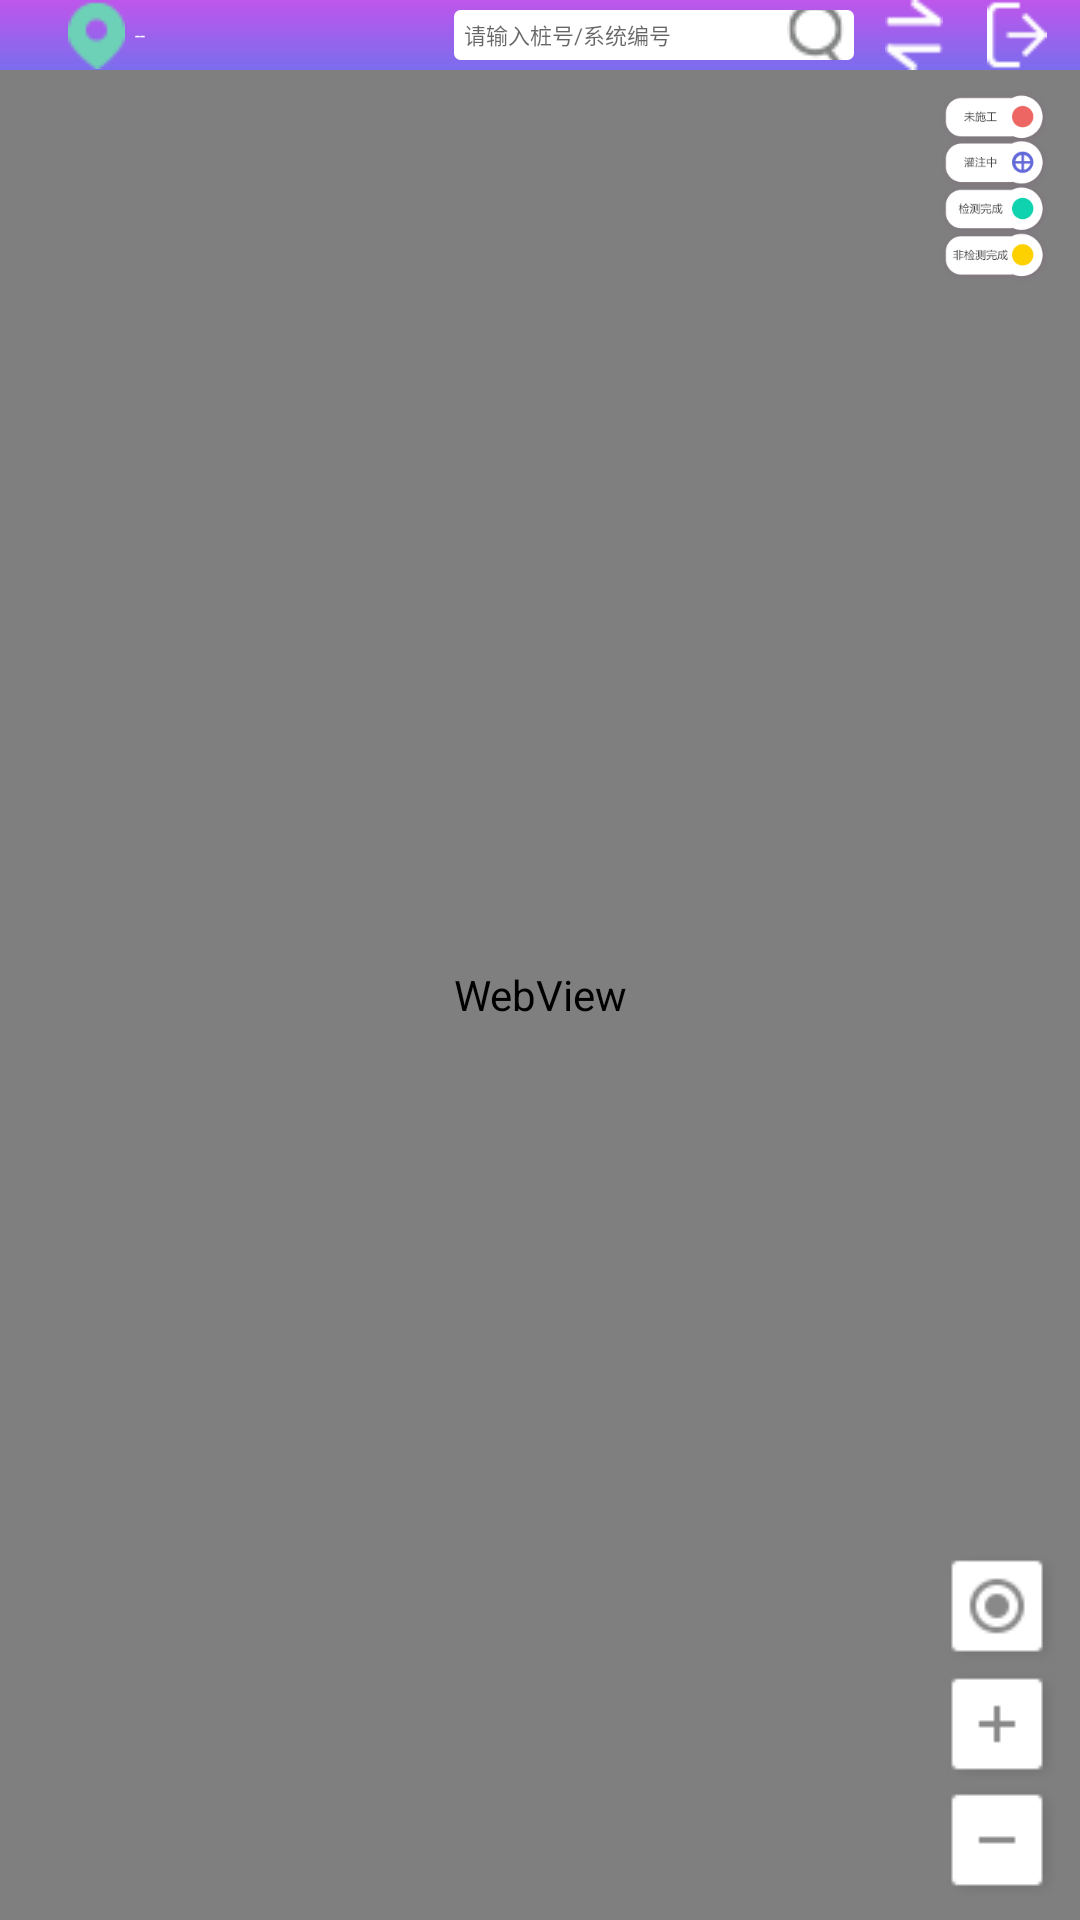

Named icons in this screenshot (1080×1920) and their centers, (x,y):
location: (96,34)
login out: (1022,35)
switch: (909,35)
zoom restore: (997,1606)
